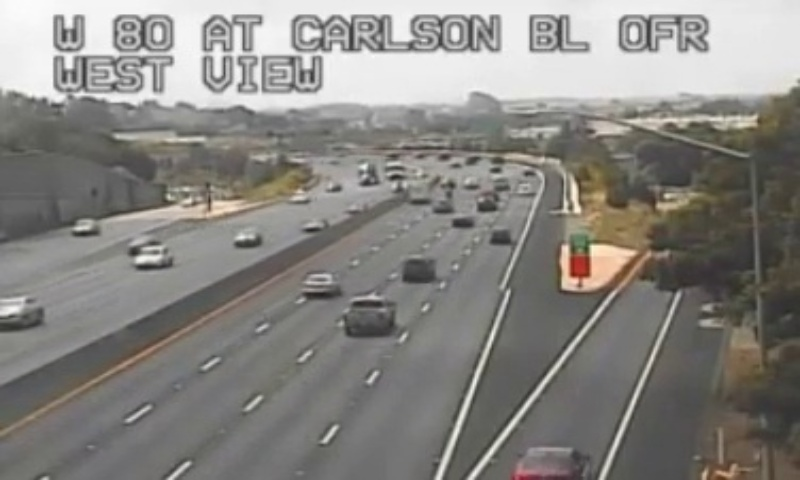car: (512, 445, 591, 480), (342, 295, 391, 332), (402, 254, 434, 281), (302, 272, 338, 294)
